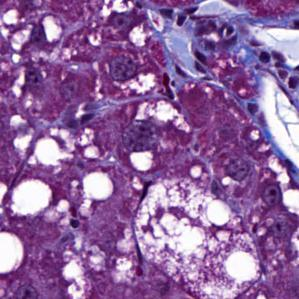ballooning: (133, 175, 262, 298)
